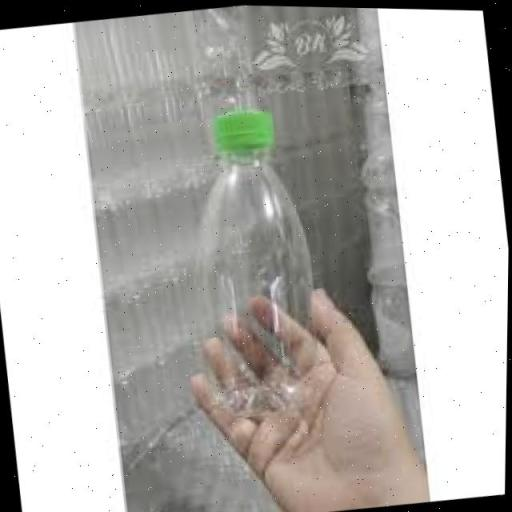plastic: (170, 101, 335, 426)
